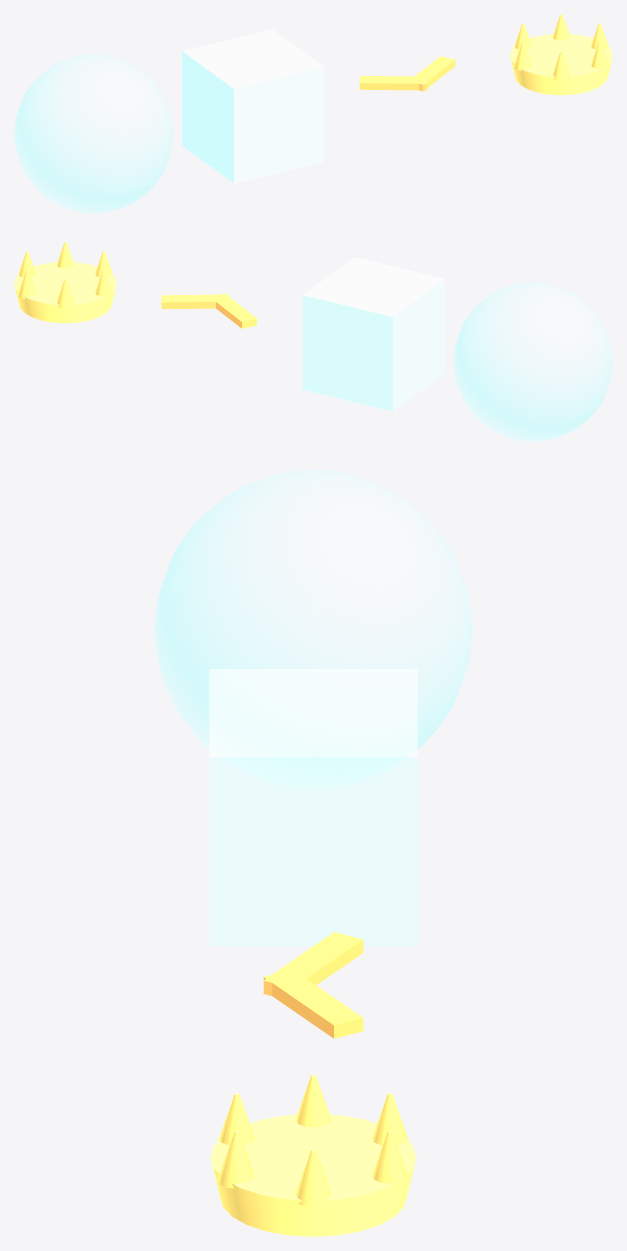
The model's file is powerup_totems.glb.
3 renders of one model, top to bottom at view 1: azimuth 30°, elevation 25°; view 2: azimuth 150°, elevation 25°; view 3: azimuth 270°, elevation 25°, orthographic. The views are drawn at different scales.
Parts seen in each view (by area): view 1: Totem_ShieldDome, Totem_SubZeroIce, Totem_StreakCrown, Totem_Boomerang; view 2: Totem_ShieldDome, Totem_SubZeroIce, Totem_StreakCrown, Totem_Boomerang; view 3: Totem_ShieldDome, Totem_SubZeroIce, Totem_StreakCrown, Totem_Boomerang.
Part boxes in pixels (x1,y1,x2,y2): Totem_ShieldDome: [14, 54, 173, 213]; Totem_SubZeroIce: [182, 29, 324, 183]; Totem_StreakCrown: [510, 14, 612, 95]; Totem_Boomerang: [359, 56, 455, 91]; Totem_ShieldDome: [453, 282, 612, 441]; Totem_SubZeroIce: [302, 257, 444, 411]; Totem_StreakCrown: [14, 242, 116, 323]; Totem_Boomerang: [161, 293, 256, 328]; Totem_ShieldDome: [154, 470, 472, 788]; Totem_SubZeroIce: [209, 669, 417, 946]; Totem_StreakCrown: [210, 1074, 416, 1236]; Totem_Boomerang: [263, 932, 363, 1038].
Size of the model in its own units: 5.49 by 1.3 by 1.3.
